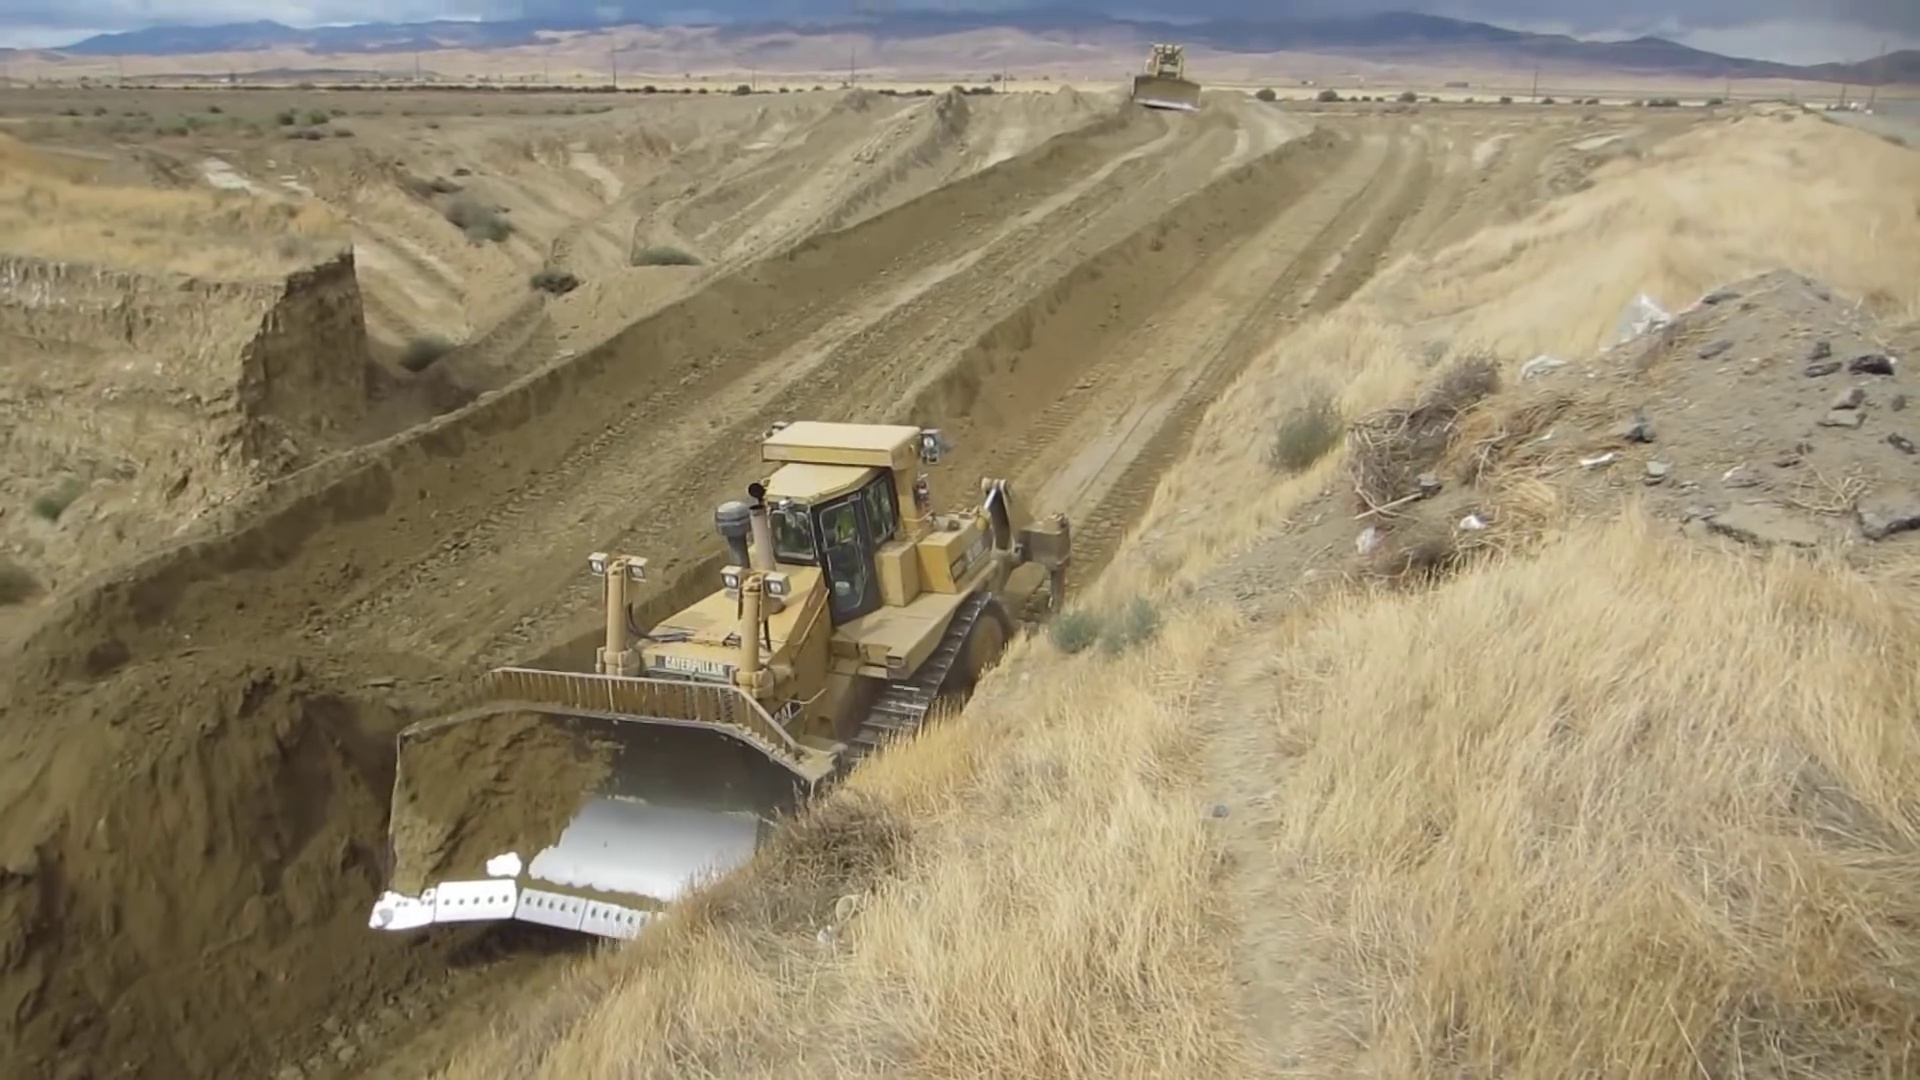bulldozer: (369, 413, 1073, 971)
